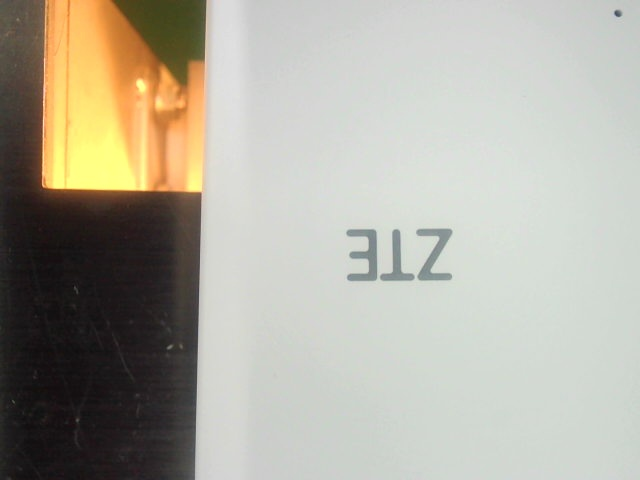AO_ZTESmall: (328, 219, 459, 293)
